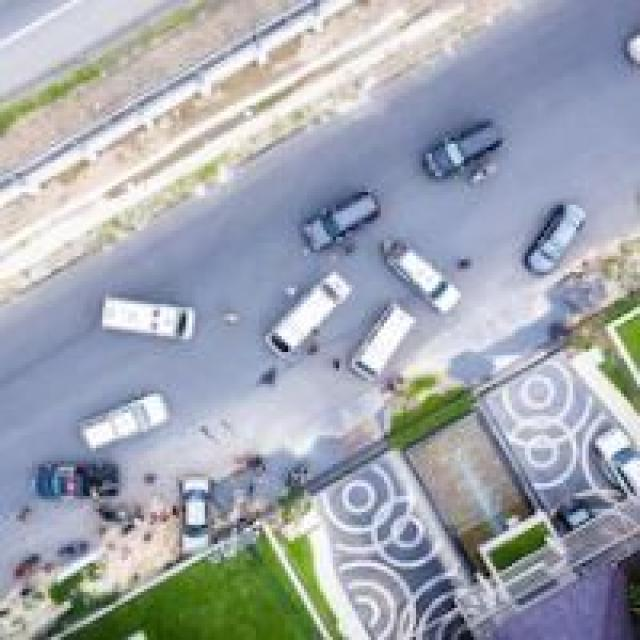traffic_incident: (166, 461, 221, 557), (26, 454, 115, 502)
